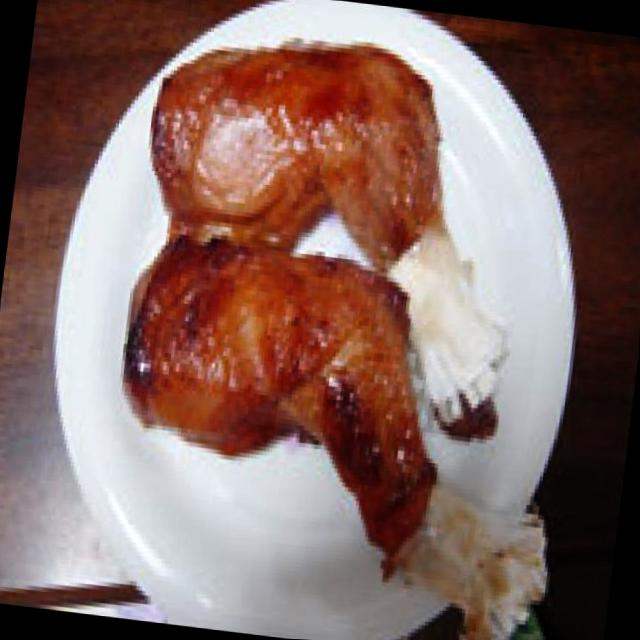Chicken: (110, 226, 458, 550), (132, 16, 478, 278)
